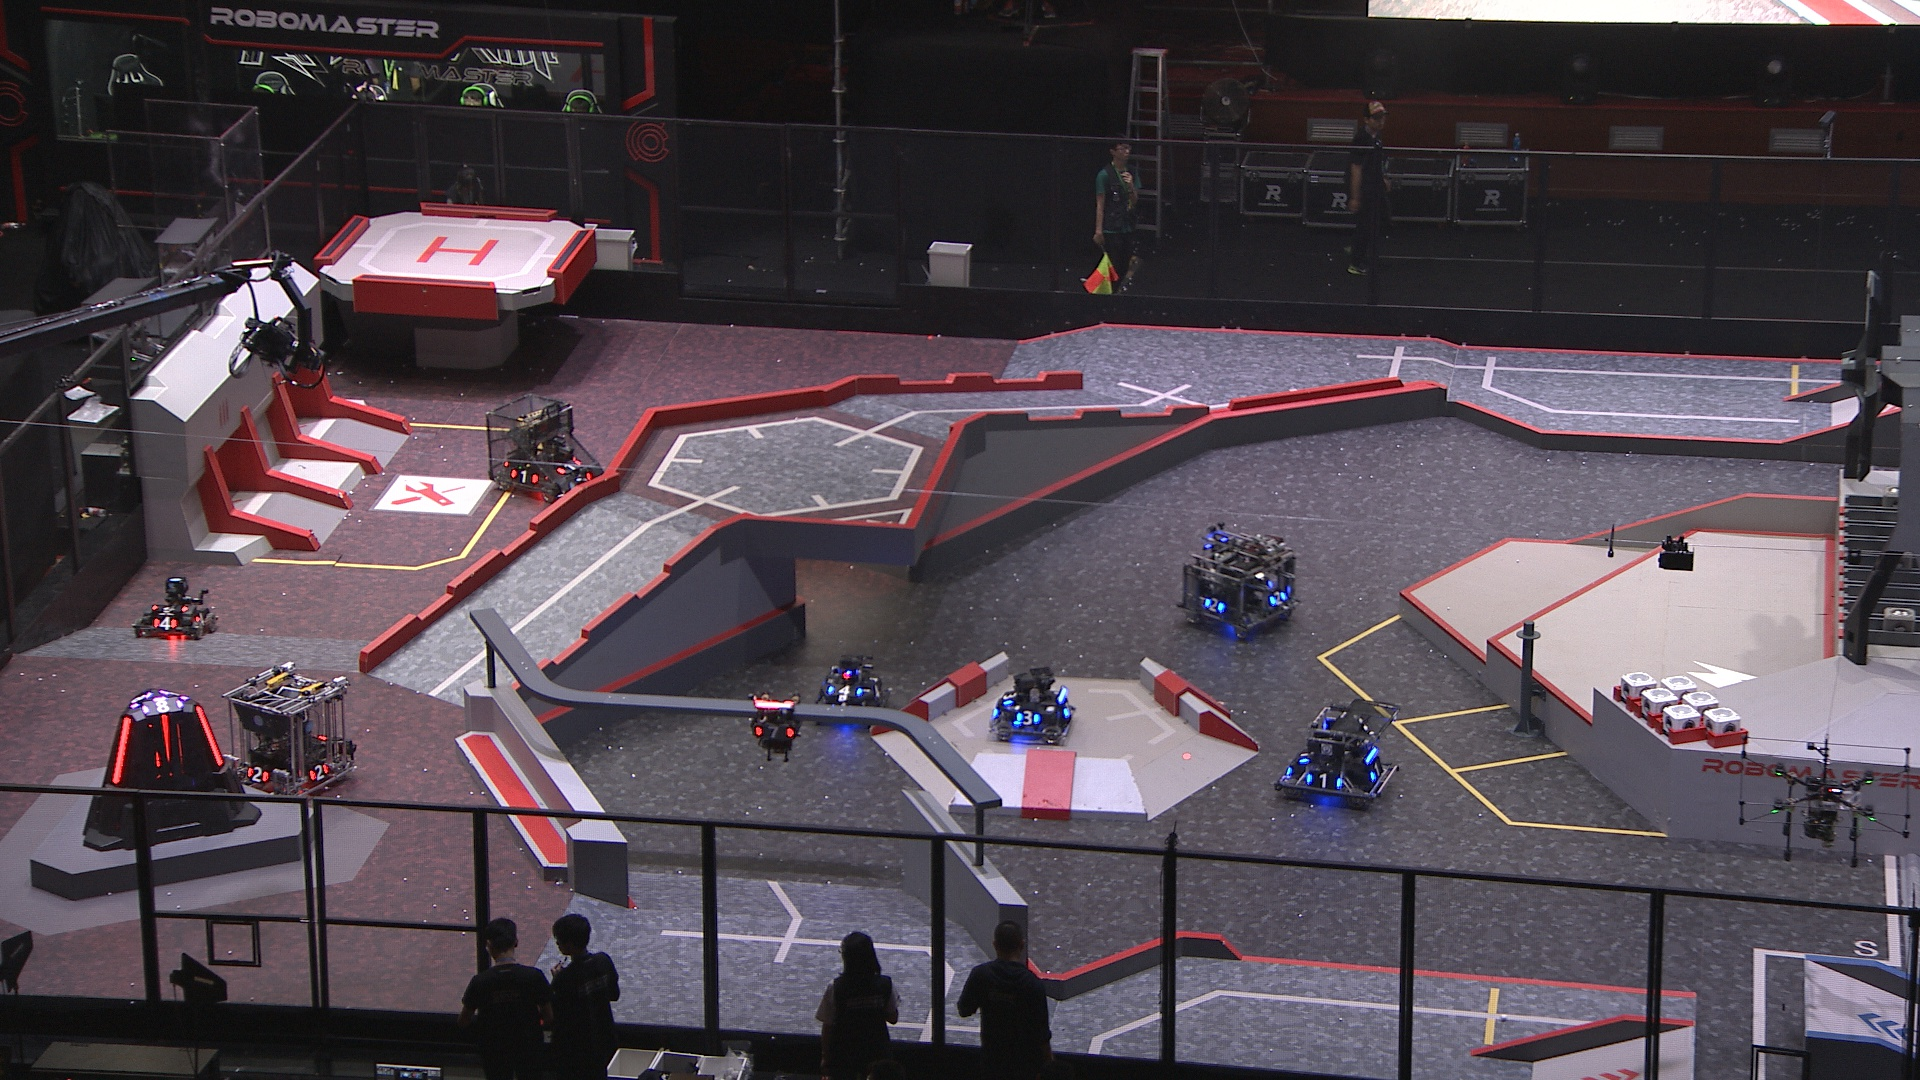armor: (195, 705, 223, 767), (109, 716, 133, 785), (1305, 771, 1340, 793), (756, 725, 795, 742), (306, 761, 332, 785), (162, 713, 174, 765), (553, 458, 583, 477), (1201, 593, 1228, 615), (244, 766, 272, 785), (509, 467, 539, 483), (828, 683, 861, 698), (572, 471, 596, 491), (1013, 709, 1039, 727), (152, 617, 178, 633), (1267, 589, 1290, 608), (1367, 760, 1386, 782), (870, 680, 884, 703), (1002, 687, 1017, 707), (1062, 699, 1072, 721), (1298, 750, 1315, 764), (193, 613, 207, 626)
base: (82, 690, 264, 851)
car: (223, 655, 353, 796), (1178, 524, 1295, 645), (1273, 698, 1404, 803), (483, 389, 603, 502), (984, 666, 1077, 744), (133, 572, 219, 642), (814, 651, 885, 719)
ignore: (141, 698, 185, 716)
watcher: (746, 694, 803, 760)
